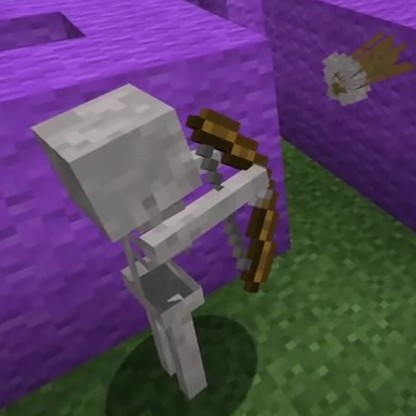skeleton: (29, 80, 275, 397)
